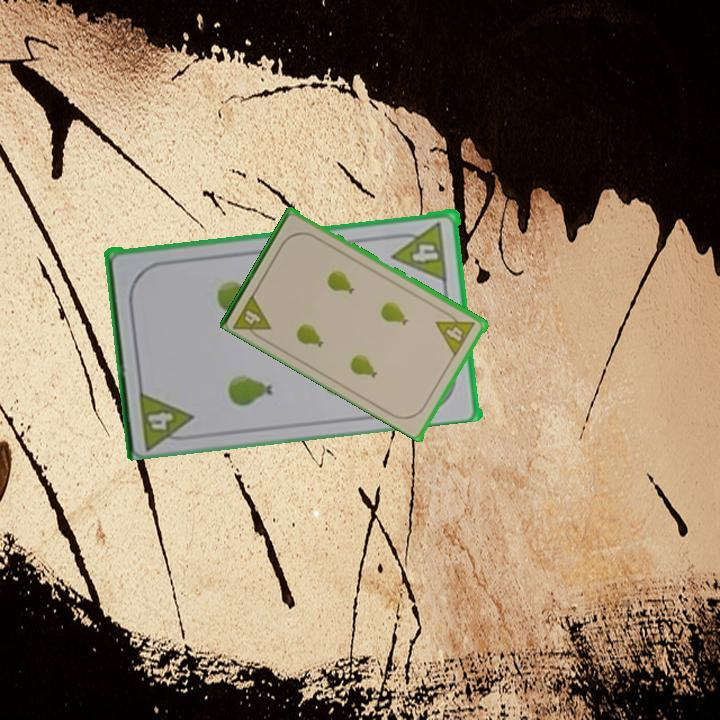4p: (135, 384, 199, 450), (388, 218, 450, 283), (230, 289, 275, 344), (433, 307, 478, 358)
